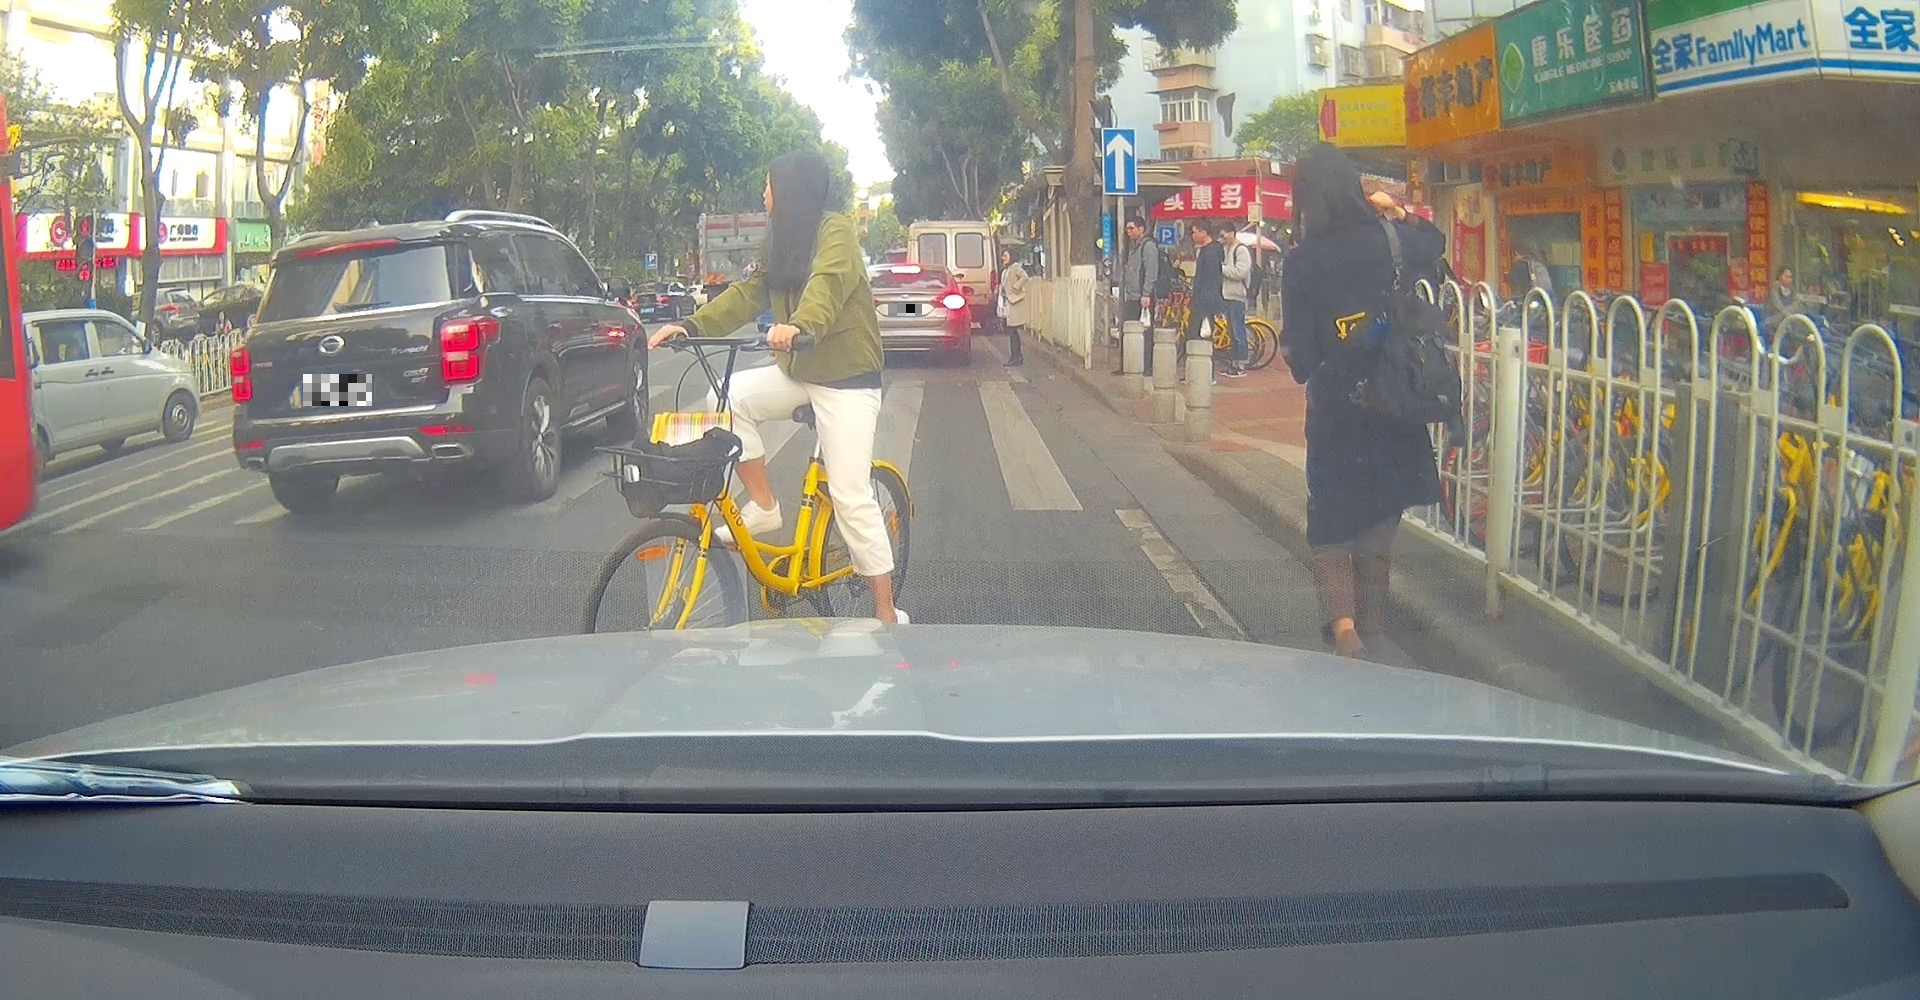L_light: (229, 346, 251, 404), (630, 297, 639, 307)
R_light: (439, 315, 502, 385), (657, 294, 670, 303)
T_light: (295, 239, 403, 260)
day-no: (229, 211, 521, 515), (630, 280, 674, 322)
plate_1: (303, 374, 372, 406)
plate_2: (888, 305, 922, 316)
